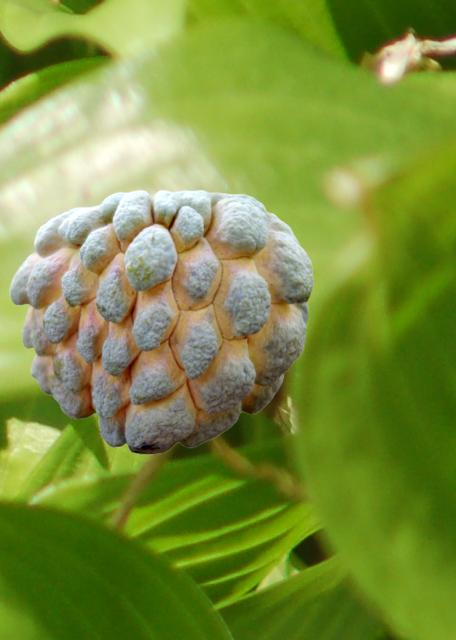atis: (9, 189, 312, 453)
